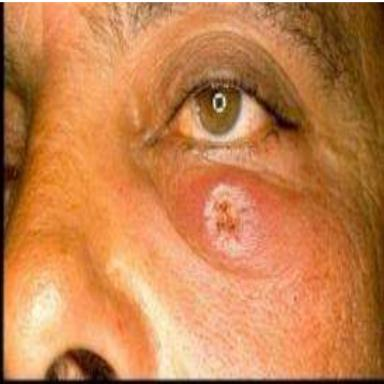Leishmanios: (203, 183, 263, 261)
